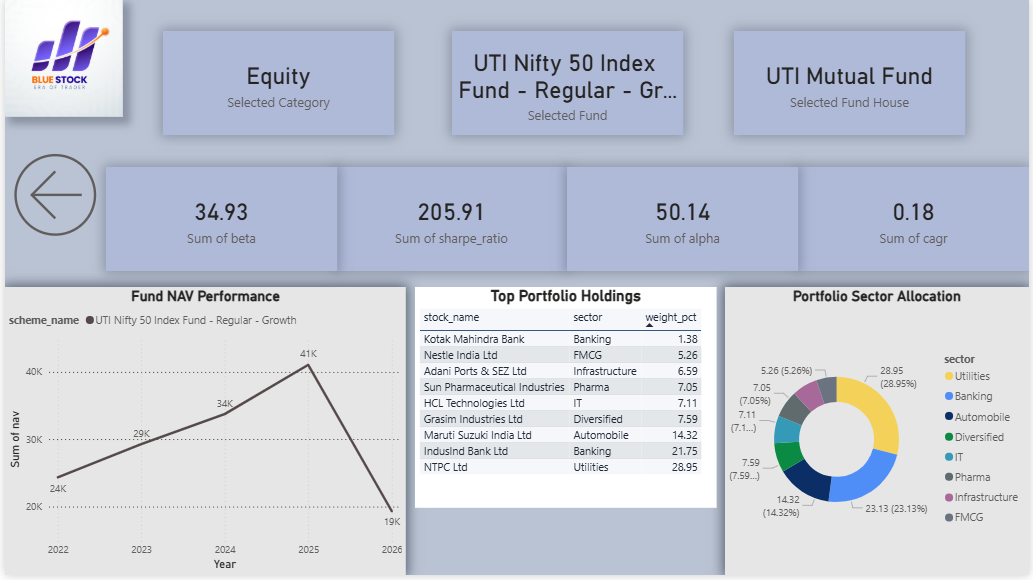

The dashboard page shown, as its layout file describes it:
{"tool":"powerbi","page":{"name":"Fund Detail","canvas":[1280,720],"ordinal":4},"visuals":[{"type":"card","fields":{"Values":["01_fund_master.Selected Category"]},"box":[197.1,40,288.6,130],"z":1},{"type":"card","fields":{"Values":["01_fund_master.Selected Fund"]},"box":[558.6,40,288.6,130],"z":2},{"type":"card","fields":{"Values":["01_fund_master.Selected Fund House"]},"box":[911.4,40,288.6,130],"z":3},{"type":"card","fields":{"Values":["Sum(fund_scorecard.cagr)"]},"box":[991.4,210,288.6,130],"z":4},{"type":"card","fields":{"Values":["Sum(fund_scorecard.sharpe_ratio)"]},"box":[414.3,210,288.6,130],"z":5},{"type":"lineChart","title":"Fund NAV Performance","fields":{"Category":["02_nav_history.date.Variation.Date Hierarchy.Year","02_nav_history.date.Variation.Date Hierarchy.Quarter","02_nav_history.date.Variation.Date Hierarchy.Month","02_nav_history.date.Variation.Date Hierarchy.Day"],"Y":["Sum(02_nav_history.nav)"],"Series":["01_fund_master.scheme_name"]},"box":[0,360,501.4,360],"z":6},{"type":"card","fields":{"Values":["Sum(07_scheme_performance.alpha)"]},"box":[702.9,210,288.6,130],"z":7},{"type":"card","fields":{"Values":["Sum(07_scheme_performance.beta)"]},"box":[125.7,210,288.6,130],"z":8},{"type":"donutChart","title":"Portfolio Sector Allocation","fields":{"Category":["09_portfolio_holdings.sector"],"Y":["Sum(09_portfolio_holdings.weight_pct)"]},"box":[900,360,380,360],"z":9},{"type":"tableEx","title":"Top Portfolio Holdings","fields":{"Values":["09_portfolio_holdings.stock_name","09_portfolio_holdings.sector","09_portfolio_holdings.weight_pct"]},"box":[512.9,360,377.1,275.7],"z":10},{"type":"image","box":[0,0,147.1,147.1],"z":11},{"type":"actionButton","box":[0,150,125.7,190],"z":13}]}

Visuals, with their boxes in screenshot pixels (x1, y1, x2, y2), scaled from the page's 1280x720 canvas onto the 1033x580 screenshot:
card - 01_fund_master.Selected Category: x1=159 y1=32 x2=392 y2=137
card - 01_fund_master.Selected Fund: x1=451 y1=32 x2=684 y2=137
card - 01_fund_master.Selected Fund House: x1=736 y1=32 x2=968 y2=137
card - Sum(fund_scorecard.cagr): x1=800 y1=169 x2=1032 y2=274
card - Sum(fund_scorecard.sharpe_ratio): x1=334 y1=169 x2=567 y2=274
"Fund NAV Performance" lineChart: x1=0 y1=290 x2=405 y2=579
card - Sum(07_scheme_performance.alpha): x1=567 y1=169 x2=800 y2=274
card - Sum(07_scheme_performance.beta): x1=101 y1=169 x2=334 y2=274
"Portfolio Sector Allocation" donutChart: x1=726 y1=290 x2=1032 y2=579
"Top Portfolio Holdings" tableEx: x1=414 y1=290 x2=718 y2=512
image: x1=0 y1=0 x2=119 y2=118
actionButton: x1=0 y1=121 x2=101 y2=274
